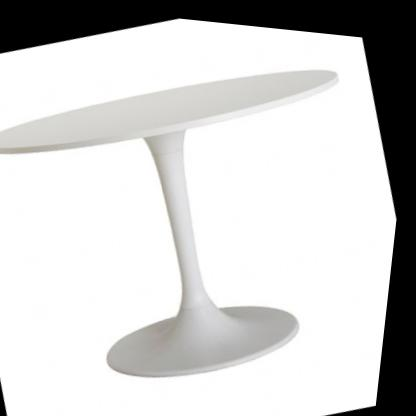Table: (0, 13, 415, 416)
